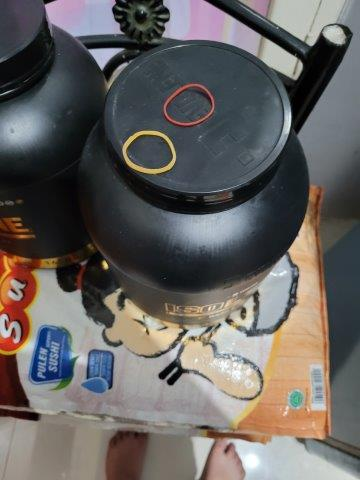karet: (119, 130, 177, 173), (162, 83, 217, 126)
